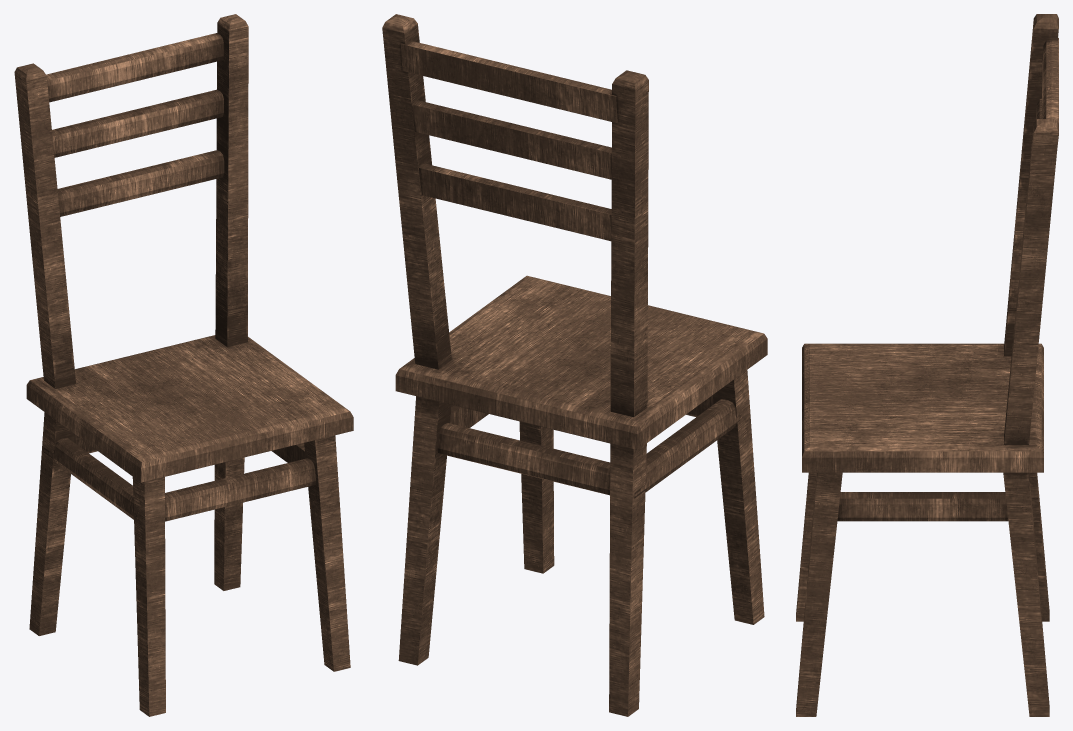
Rendered from chair.fbx.
The picture shows the model from 3 angles, left to right: view 1: azimuth 30°, elevation 25°; view 2: azimuth 150°, elevation 25°; view 3: azimuth 270°, elevation 25°; orthographic projection. The views are drawn at different scales.
Visible parts, largest first — view 1: chair; view 2: chair; view 3: chair.
Boxes of the visible parts, x1=… form: chair: x1=14, y1=14, x2=353, y2=716; chair: x1=382, y1=14, x2=767, y2=716; chair: x1=796, y1=14, x2=1058, y2=716.
Bounding box in the file's own units: 157 × 381 × 152.
Materials: 1 (1 with a texture image).
